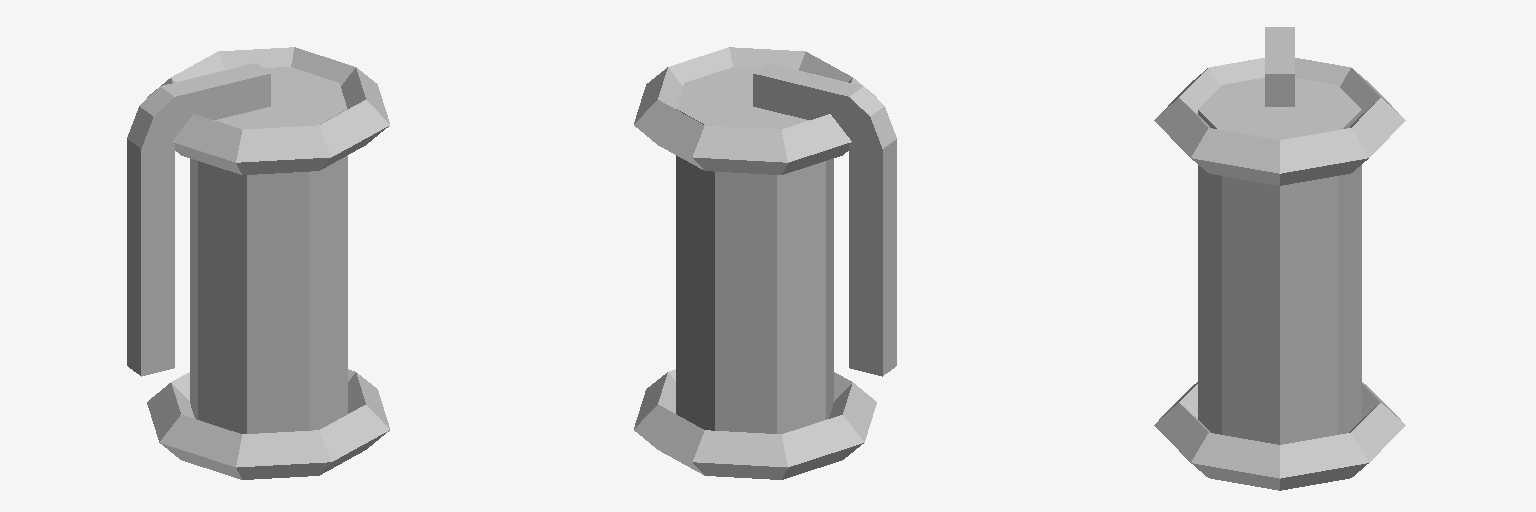
File: incendiary_grenade.obj
3 views of the same model, side by side, from view 1: azimuth 30°, elevation 25°; view 2: azimuth 150°, elevation 25°; view 3: azimuth 270°, elevation 25° (orthographic).
Parts seen in each view (by area): view 1: Cylinder_Cylinder.001, Cylinder.001_Cylinder.000; view 2: Cylinder_Cylinder.001, Cylinder.001_Cylinder.000; view 3: Cylinder_Cylinder.001, Cylinder.001_Cylinder.000.
Boxes of the visible parts, <box> form: Cylinder_Cylinder.001: <box>147,47,389,479</box>; Cylinder.001_Cylinder.000: <box>127,63,270,376</box>; Cylinder_Cylinder.001: <box>634,47,876,479</box>; Cylinder.001_Cylinder.000: <box>753,63,896,376</box>; Cylinder_Cylinder.001: <box>1154,58,1405,490</box>; Cylinder.001_Cylinder.000: <box>1265,27,1294,106</box>.
Size of the model in its own units: 0.647 by 0.9435 by 0.5801.